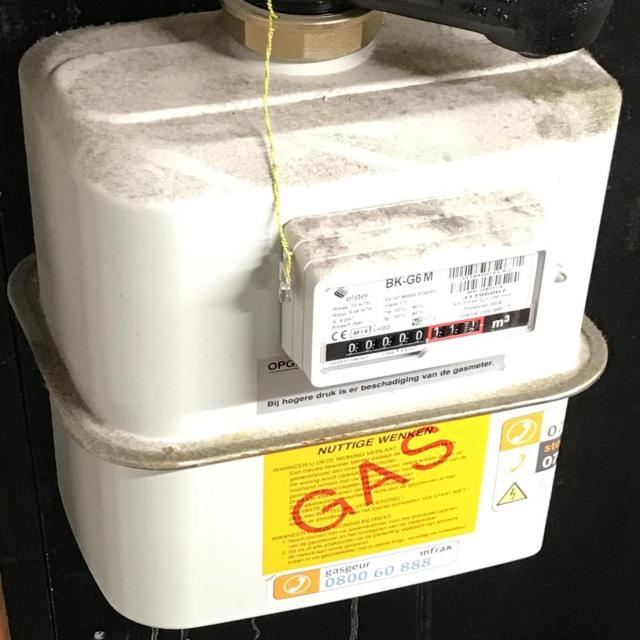gaz_meter: (314, 244, 547, 374)
indication: (326, 315, 489, 361)
